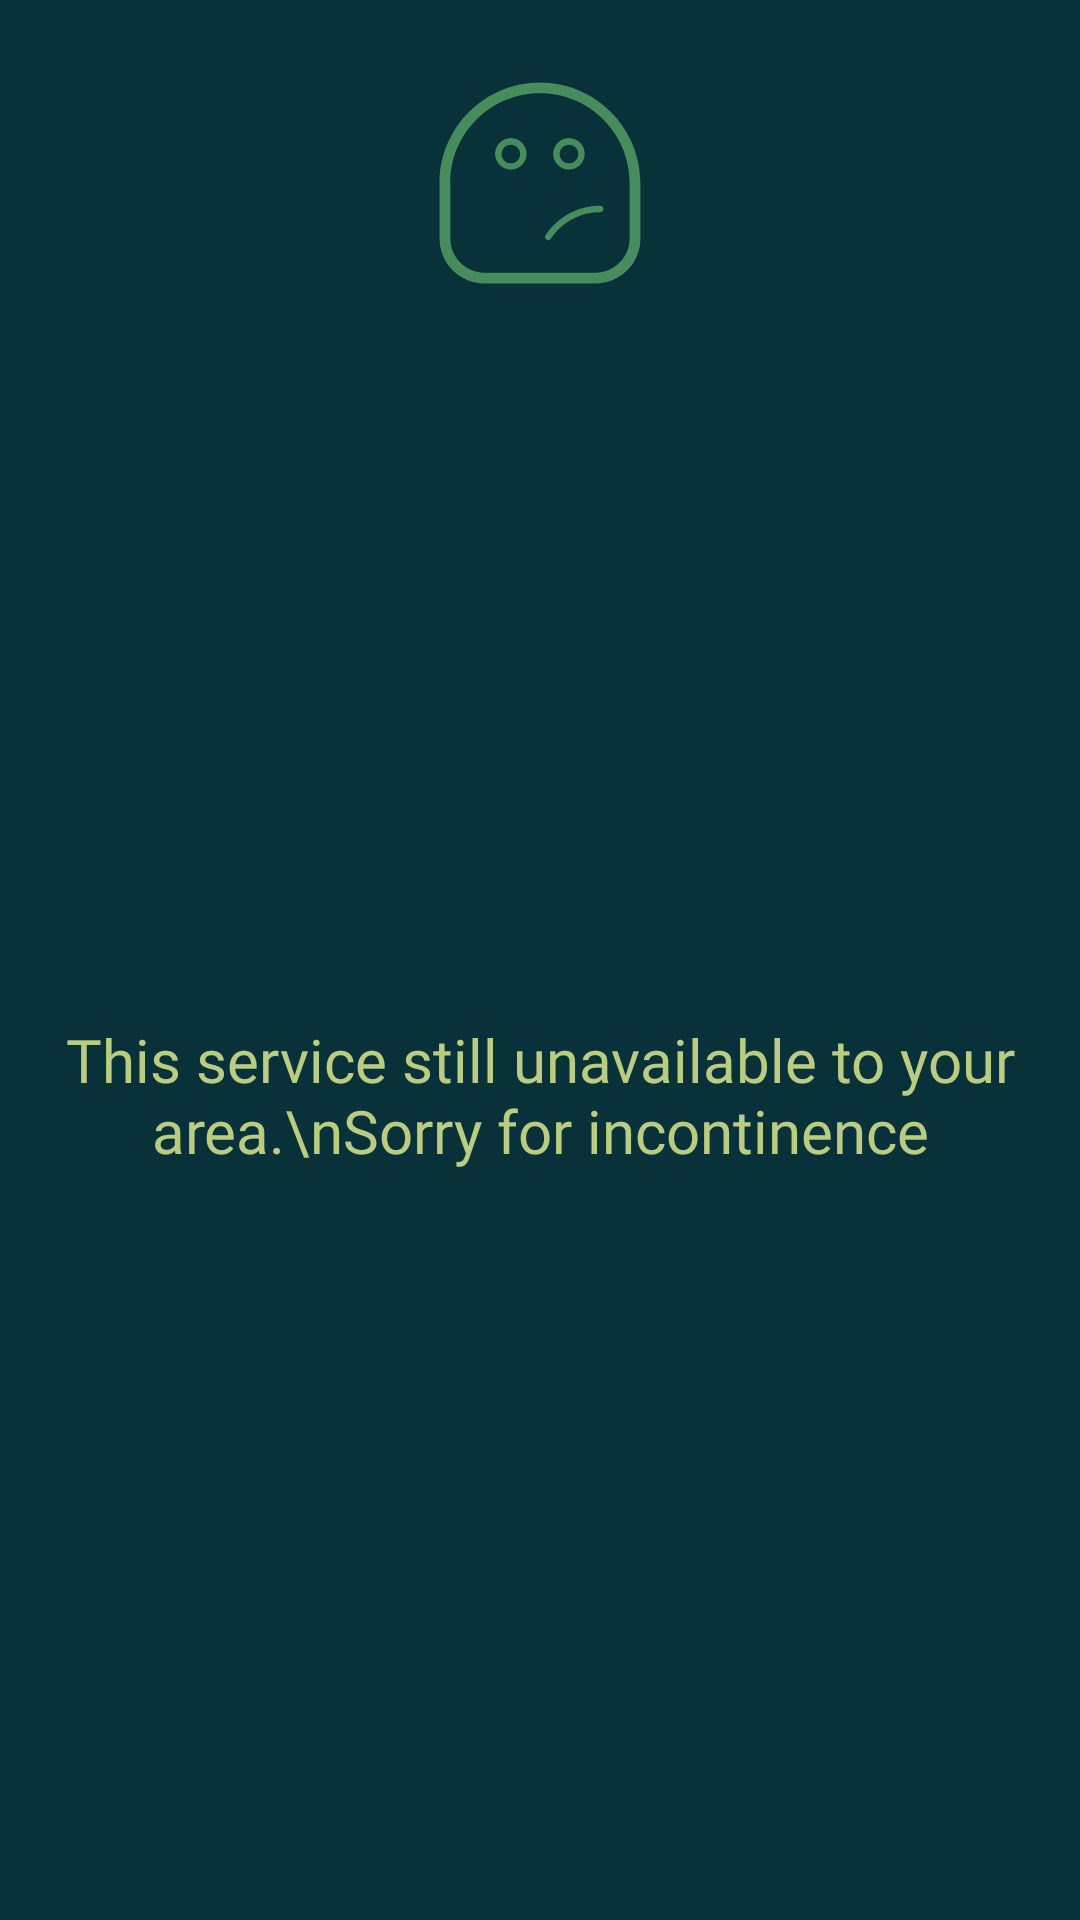

Icon click points for this 1080px×1920px phone screenshot, format (x=x, y=y):
oops: (x=540, y=183)
